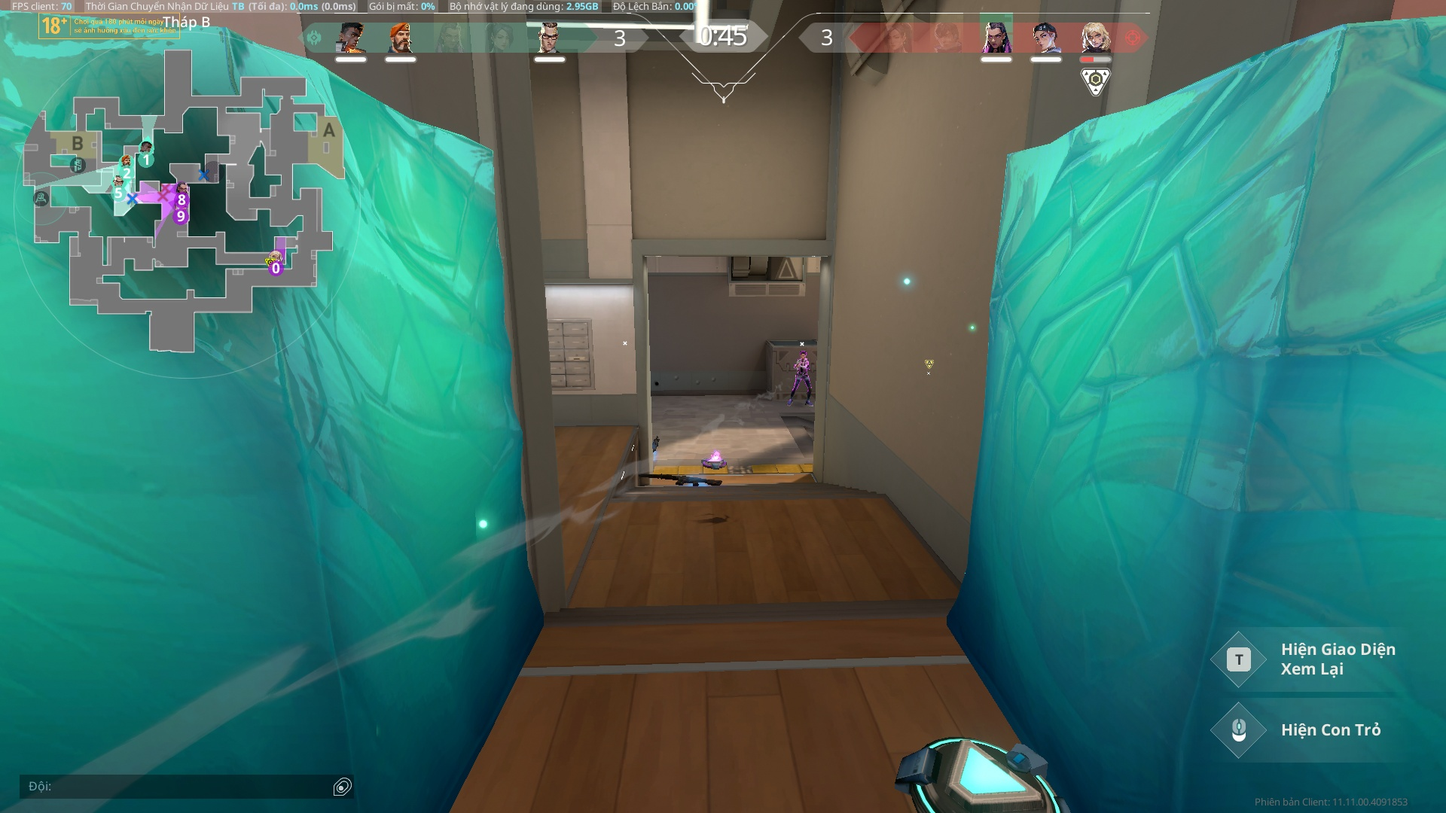body: (795, 358, 809, 376)
head: (799, 349, 806, 359)
